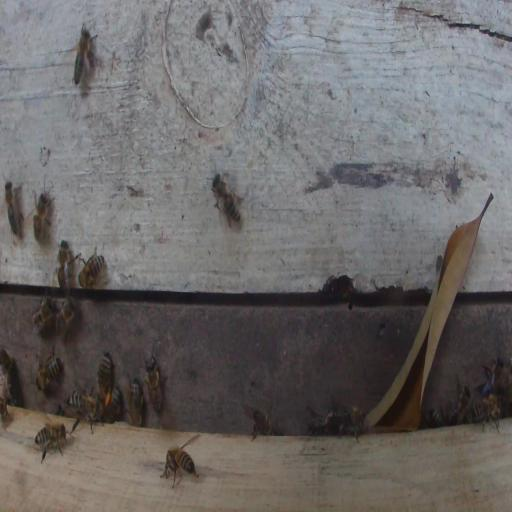bee: (211, 173, 242, 229), (72, 25, 99, 88), (68, 388, 101, 432), (162, 446, 196, 488), (32, 181, 55, 242), (35, 420, 67, 462), (78, 246, 107, 290), (3, 177, 23, 239), (0, 347, 22, 403), (331, 406, 365, 441), (32, 292, 60, 334), (145, 356, 165, 413), (470, 397, 503, 431), (36, 349, 62, 392), (478, 358, 505, 397), (56, 240, 75, 291), (56, 295, 77, 337), (449, 384, 471, 424), (127, 377, 144, 426), (103, 383, 121, 424), (307, 410, 336, 434), (252, 409, 275, 438), (97, 350, 112, 392), (0, 391, 10, 432), (426, 407, 444, 427)
